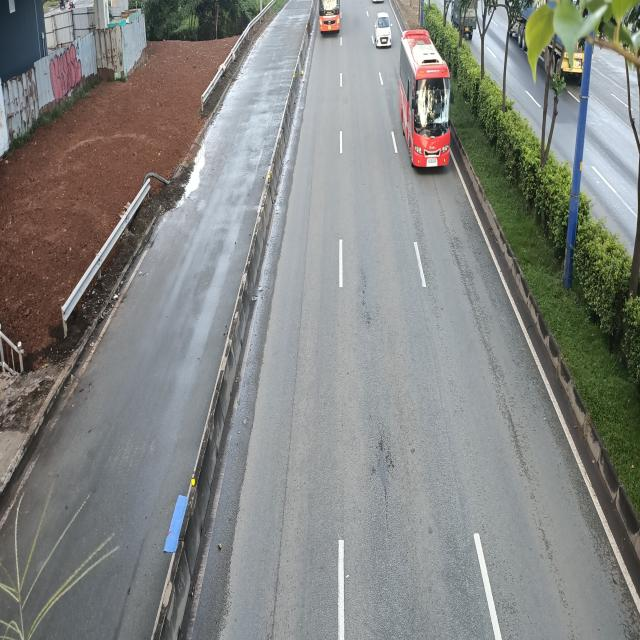car: (375, 12, 393, 48)
coach: (399, 29, 454, 171)
